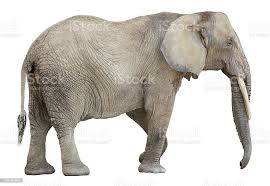Elephant: (11, 4, 257, 178)
